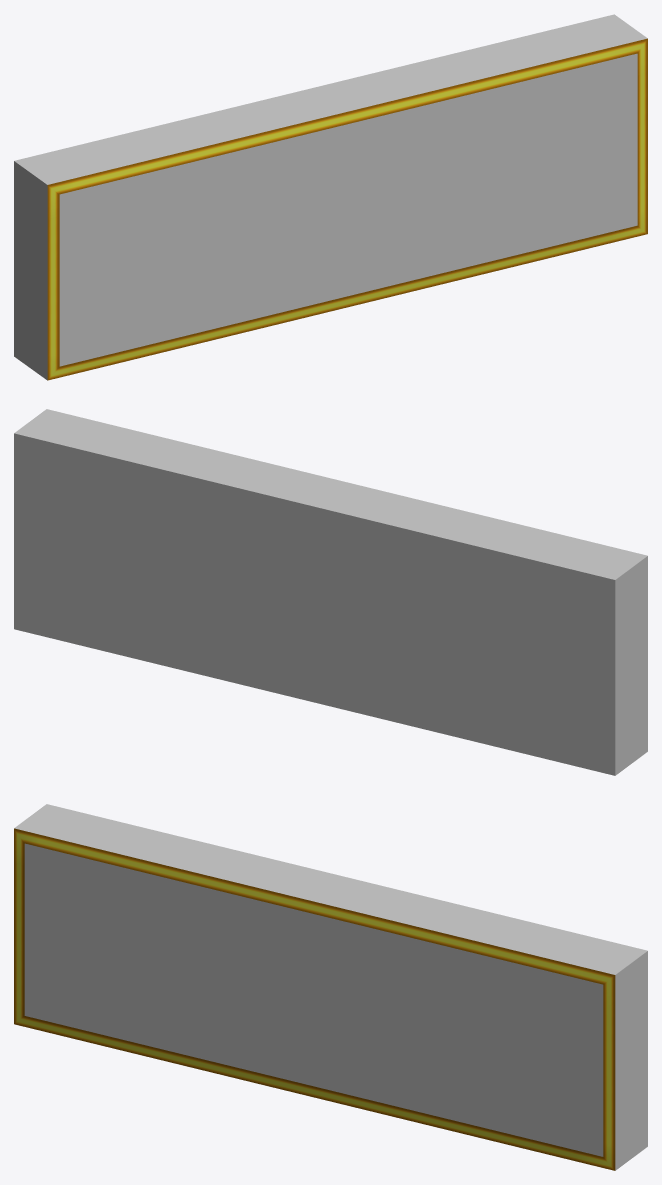
The model's file is sign_15e.fbx.
The picture shows the model from 3 angles, top to bottom: view 1: azimuth 30°, elevation 25°; view 2: azimuth 150°, elevation 25°; view 3: azimuth 330°, elevation 25°; orthographic projection.
Visible parts, largest first — view 1: sign_15e; view 2: sign_15e; view 3: sign_15e.
Boxes of the visible parts, left/top/right/bottom form: sign_15e: left=14, top=14, right=647, bottom=380; sign_15e: left=14, top=409, right=647, bottom=775; sign_15e: left=14, top=804, right=647, bottom=1170.
Bounding box in the file's own units: 2.92 × 0.9092 × 0.2851.
